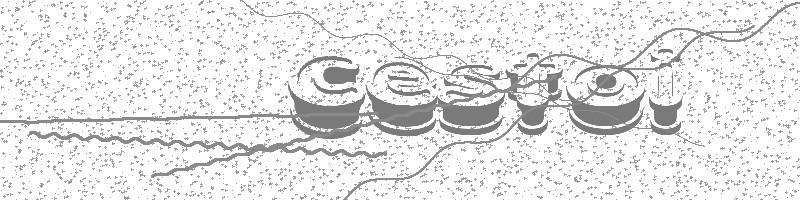c: (275, 49, 369, 145)
e: (367, 53, 440, 140)
i: (640, 45, 693, 142)
o: (564, 61, 650, 136)
s: (434, 56, 508, 141)
t: (505, 48, 561, 139)
